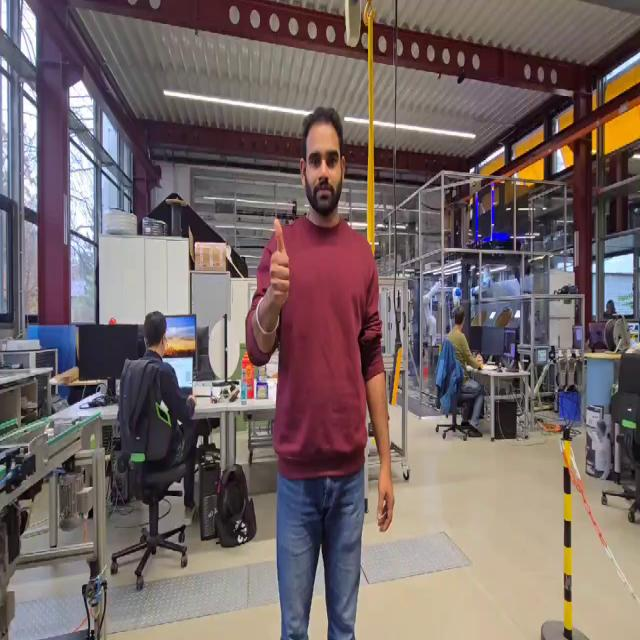thumbs_up: (265, 212, 293, 314)
